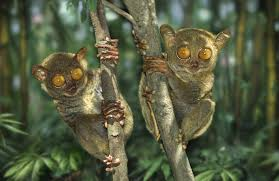tarsier: (27, 38, 136, 171), (136, 23, 229, 149)
